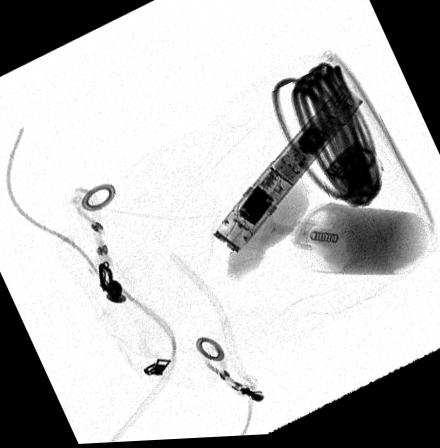Baton: (212, 88, 363, 257)
